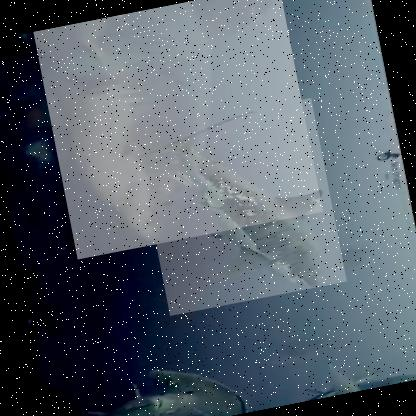white-shark: (32, 0, 324, 260), (132, 96, 346, 316)
